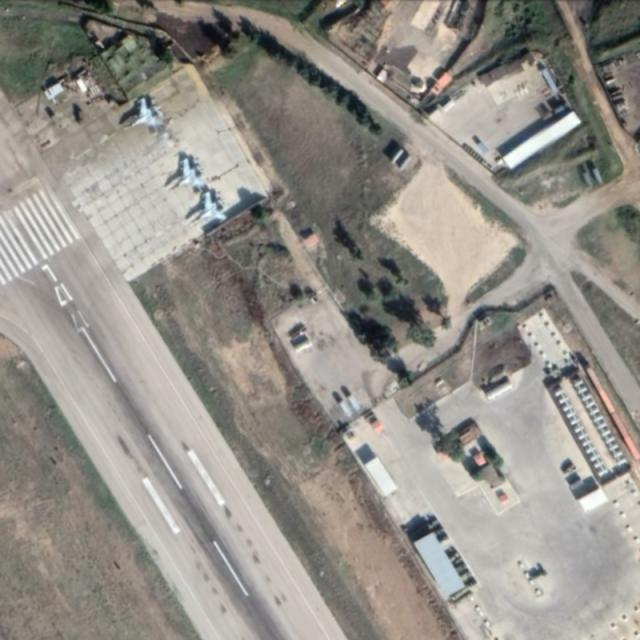fighter jet: (128, 96, 164, 131), (190, 190, 225, 220), (172, 154, 202, 184)
